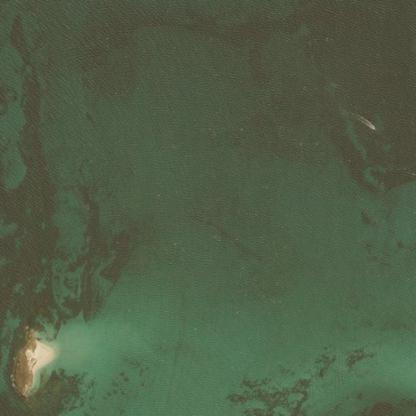ship: (372, 127, 375, 129)
